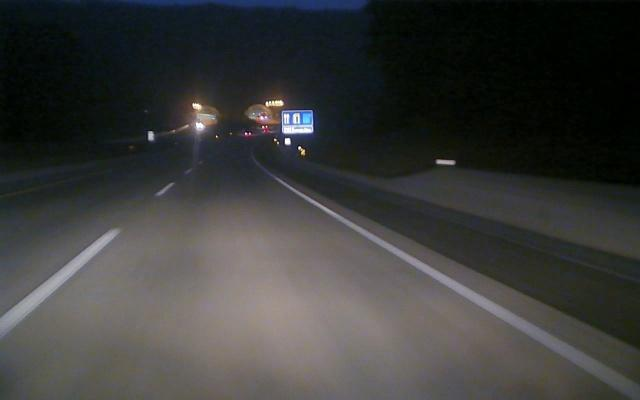lane: (280, 181, 640, 400), (0, 183, 174, 338)
